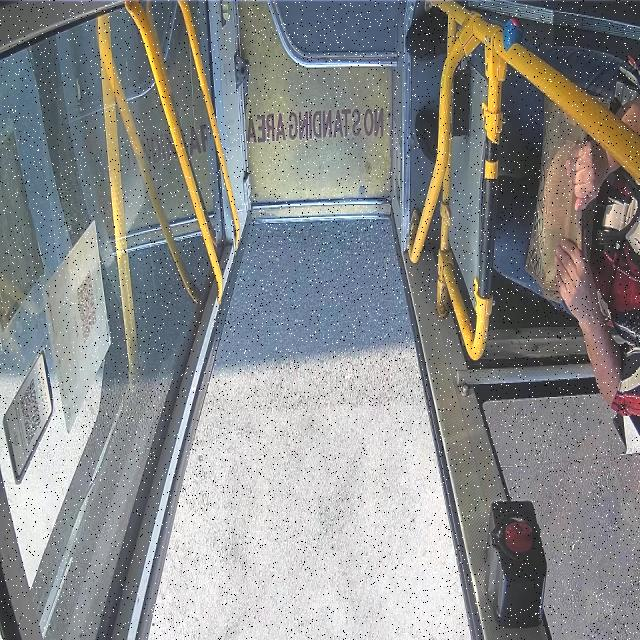open: (108, 205, 447, 640)
